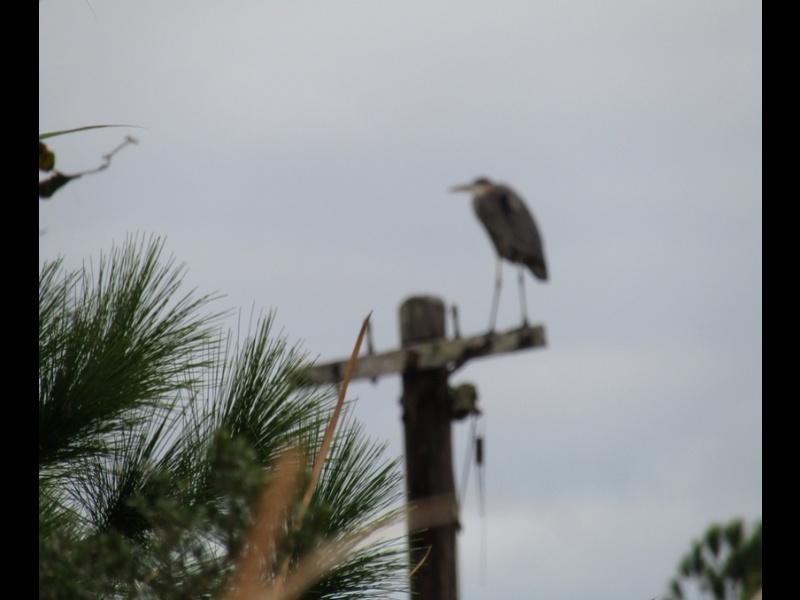heron: (444, 171, 554, 342)
